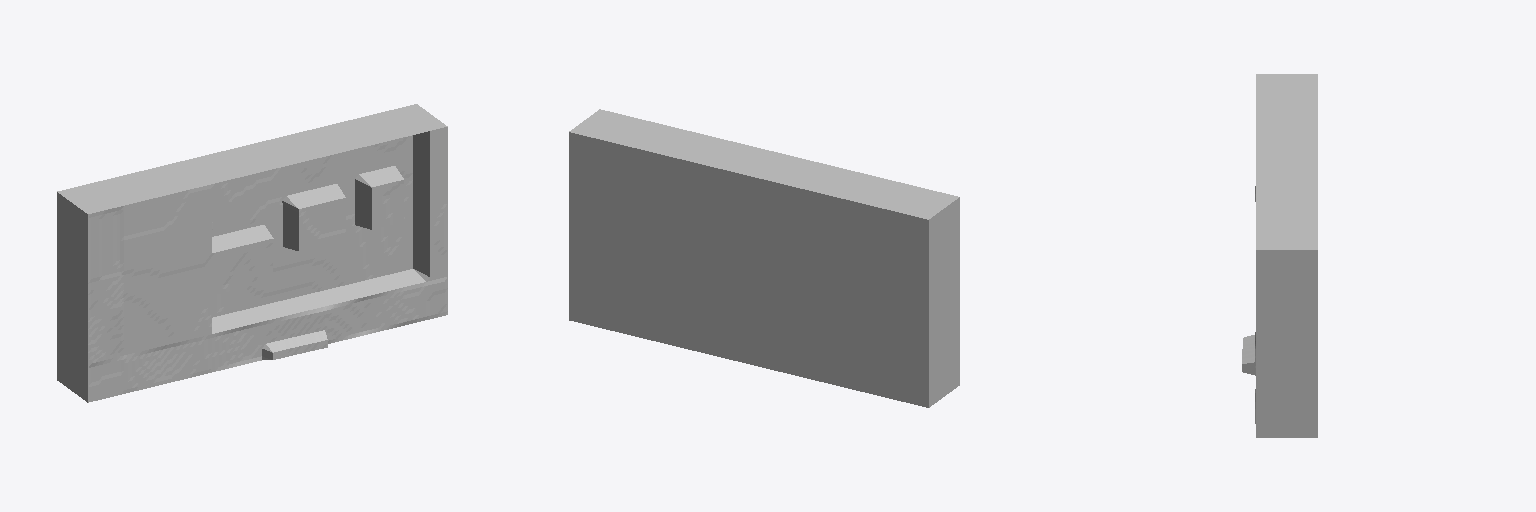
Rendered from rectangular_prism_bumps_6_8.obj.
The picture shows the model from 3 angles: view 1: azimuth 30°, elevation 25°; view 2: azimuth 150°, elevation 25°; view 3: azimuth 270°, elevation 25°; orthographic projection.
Bounding box in the file's own units: 10 × 5 × 1.85.